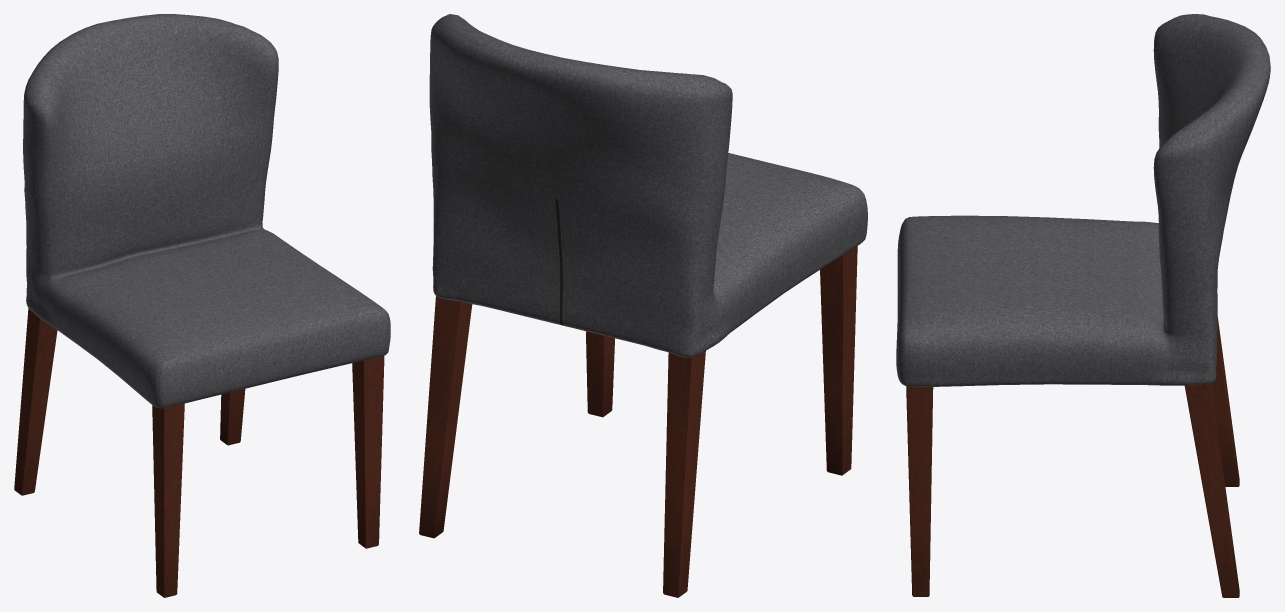
The model's file is dining-chair-curved--graphite.glb.
3 views of the same model, side by side, from view 1: azimuth 30°, elevation 25°; view 2: azimuth 150°, elevation 25°; view 3: azimuth 270°, elevation 25° (orthographic). The views are drawn at different scales.
Visible parts, largest first — view 1: RootNode; view 2: RootNode; view 3: RootNode.
Boxes of the visible parts, x1,y1,x2,y2 form: RootNode: [14, 14, 390, 597]; RootNode: [419, 14, 867, 597]; RootNode: [896, 14, 1270, 597].
Bounding box in the file's own units: 0.49 × 0.84 × 0.59.
Materials: 1 (1 with a texture image).
